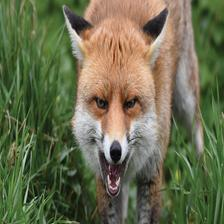fox: (52, 0, 199, 224)
